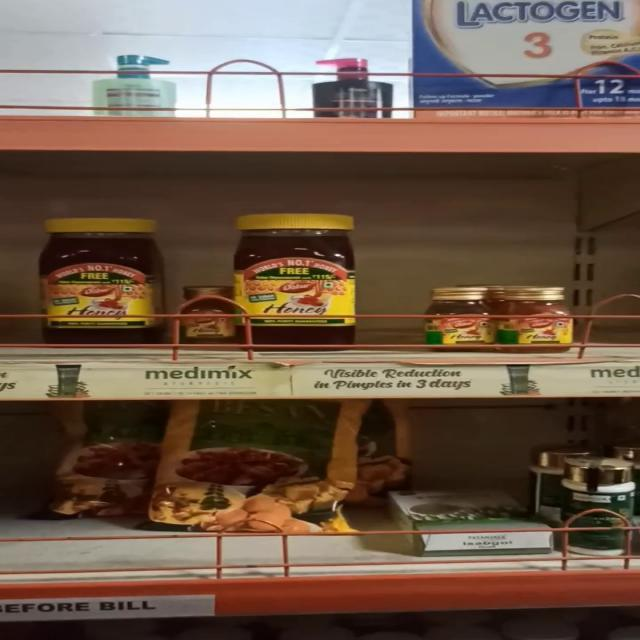Dabur Honey: (229, 212, 359, 359), (33, 218, 164, 349), (436, 288, 509, 359), (513, 290, 585, 356), (170, 296, 231, 350)
